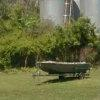Boat: (35, 52, 94, 84)
